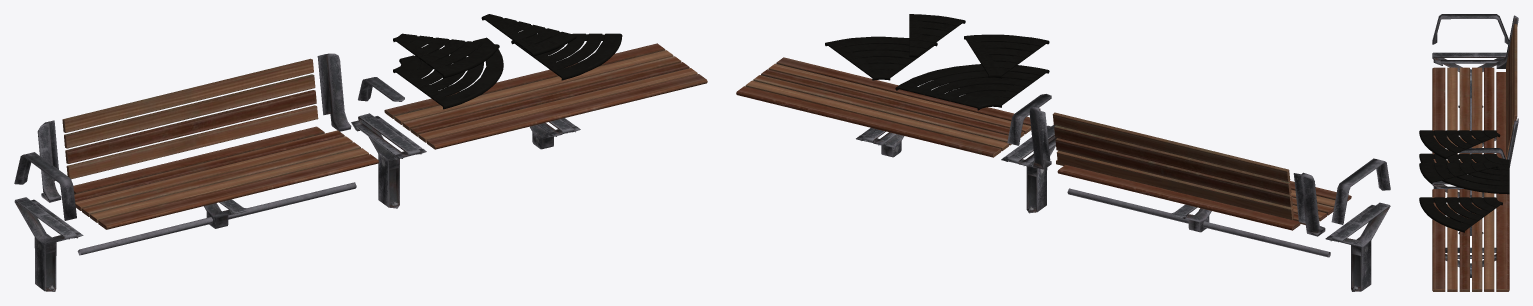
The model's file is modular_street_seating.glb.
3 views of the same model, side by side, from view 1: azimuth 30°, elevation 25°; view 2: azimuth 150°, elevation 25°; view 3: azimuth 270°, elevation 25° (orthographic). The views are drawn at different scales.
Visible parts, largest first — view 1: seat, seat_back, connector_60, legs_double, crossbar; view 2: seat, seat_back, connector_60, crossbar, legs_double; view 3: seat, connector_60, legs_double, crossbar, seat_back.
Boxes of the visible parts, bbox=[...] form: seat: bbox=[73, 43, 707, 229]; seat_back: bbox=[62, 58, 318, 179]; connector_60: bbox=[393, 14, 622, 109]; legs_double: bbox=[14, 113, 580, 291]; crossbar: bbox=[14, 53, 404, 255]; seat: bbox=[736, 57, 1351, 230]; seat_back: bbox=[1052, 112, 1294, 219]; connector_60: bbox=[825, 14, 1049, 110]; crossbar: bbox=[1007, 94, 1390, 257]; legs_double: bbox=[856, 125, 1390, 291]; seat: bbox=[1432, 67, 1509, 291]; connector_60: bbox=[1419, 130, 1509, 232]; legs_double: bbox=[1432, 52, 1506, 277]; crossbar: bbox=[1432, 14, 1518, 194]; seat_back: bbox=[1506, 24, 1517, 157].
Bounding box in the file's own units: 4.34 × 0.9498 × 0.7703.
4 materials, 4 textured.
